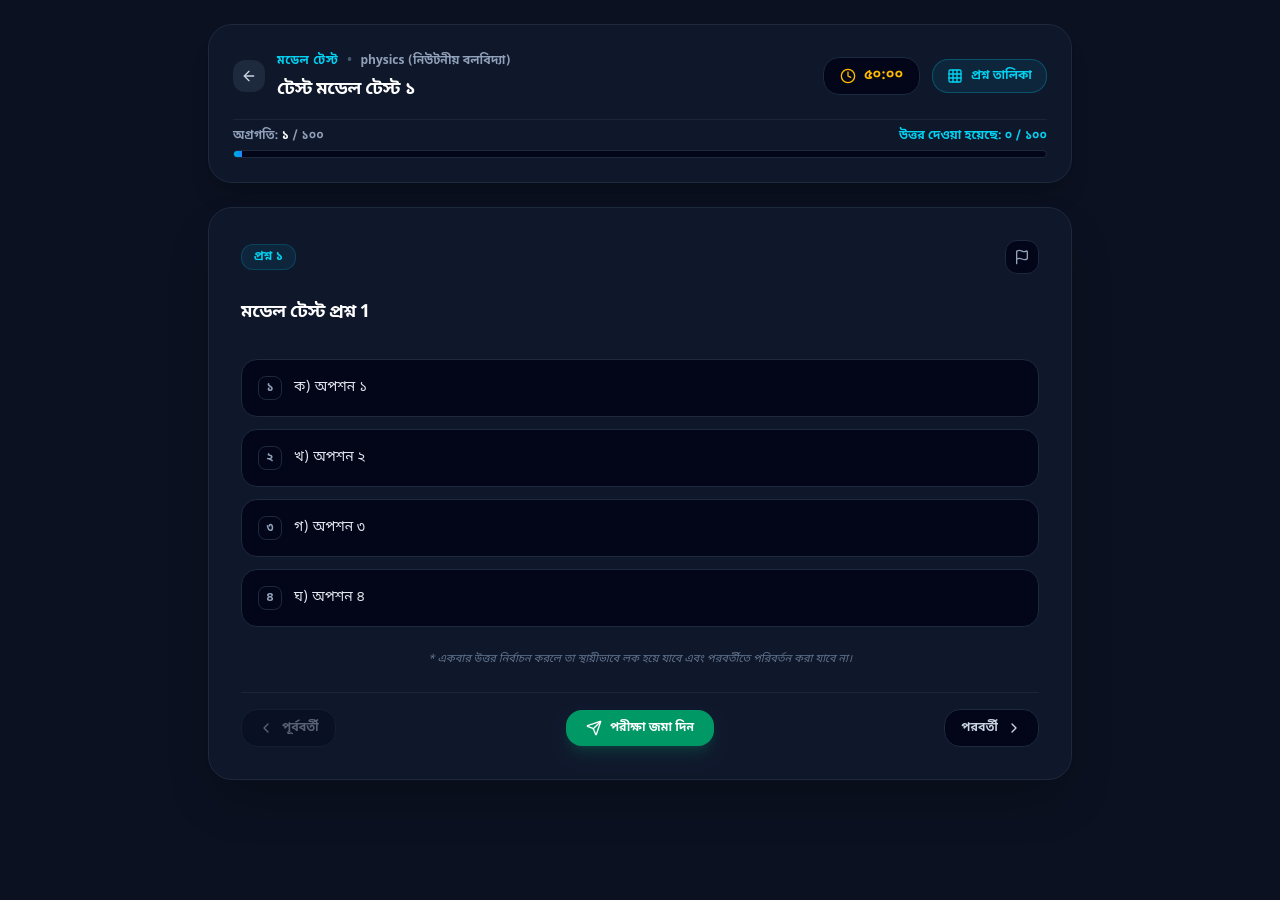
it: Medical Model Test Requirements & Safeguards › 6. Question Navigator drawer displays 100 question grid with locked state
What coordinates should you click on to do the following:
click the button "১ ক) অপশন ১"
I would click on:
 (331, 388)
Its box is [241,359,1039,417].
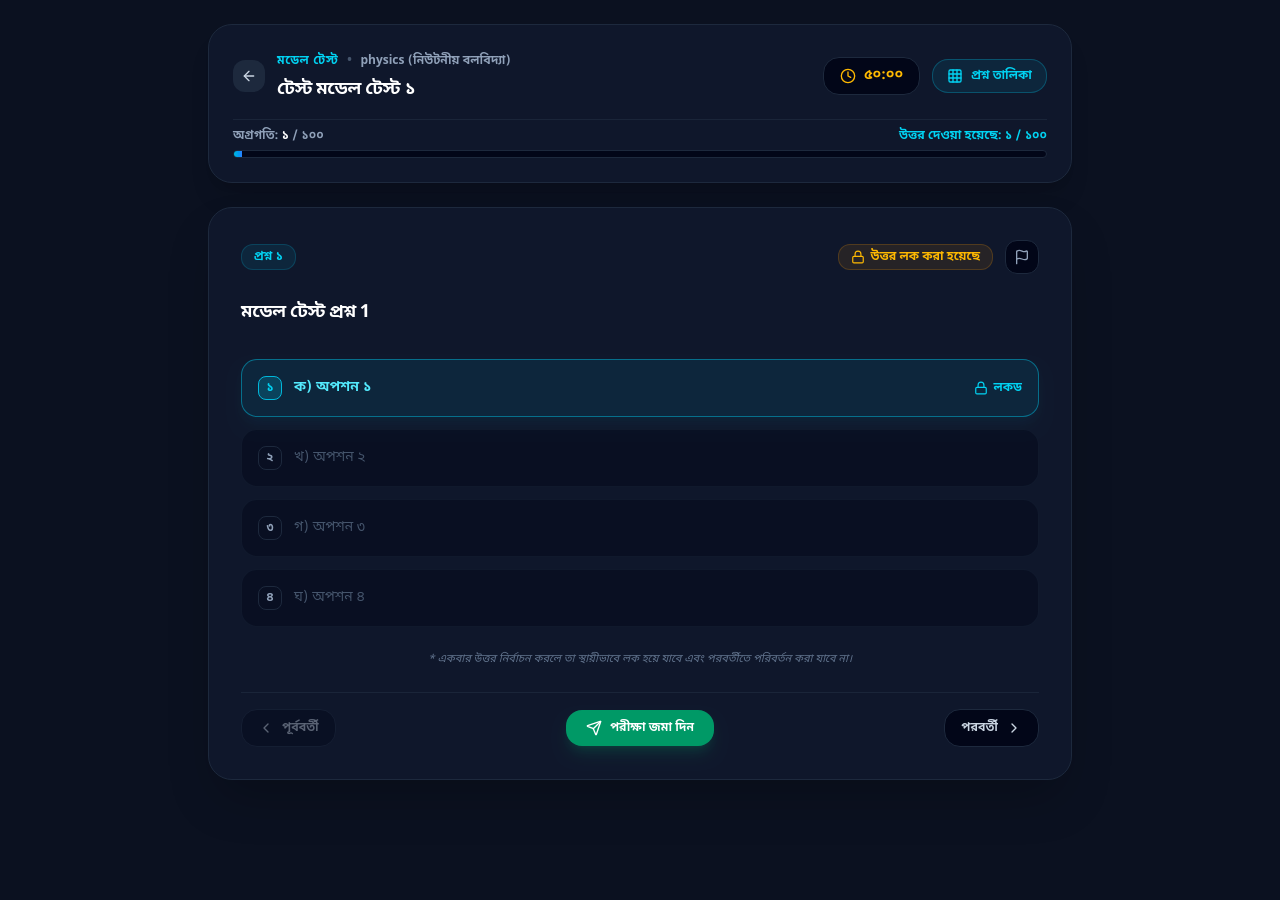
// Open question navigator modal
What coordinates should you click on to do the following:
click the button "প্রশ্ন তালিকা"
I would click on:
 (990, 76)
Its box is [932,59,1047,93].
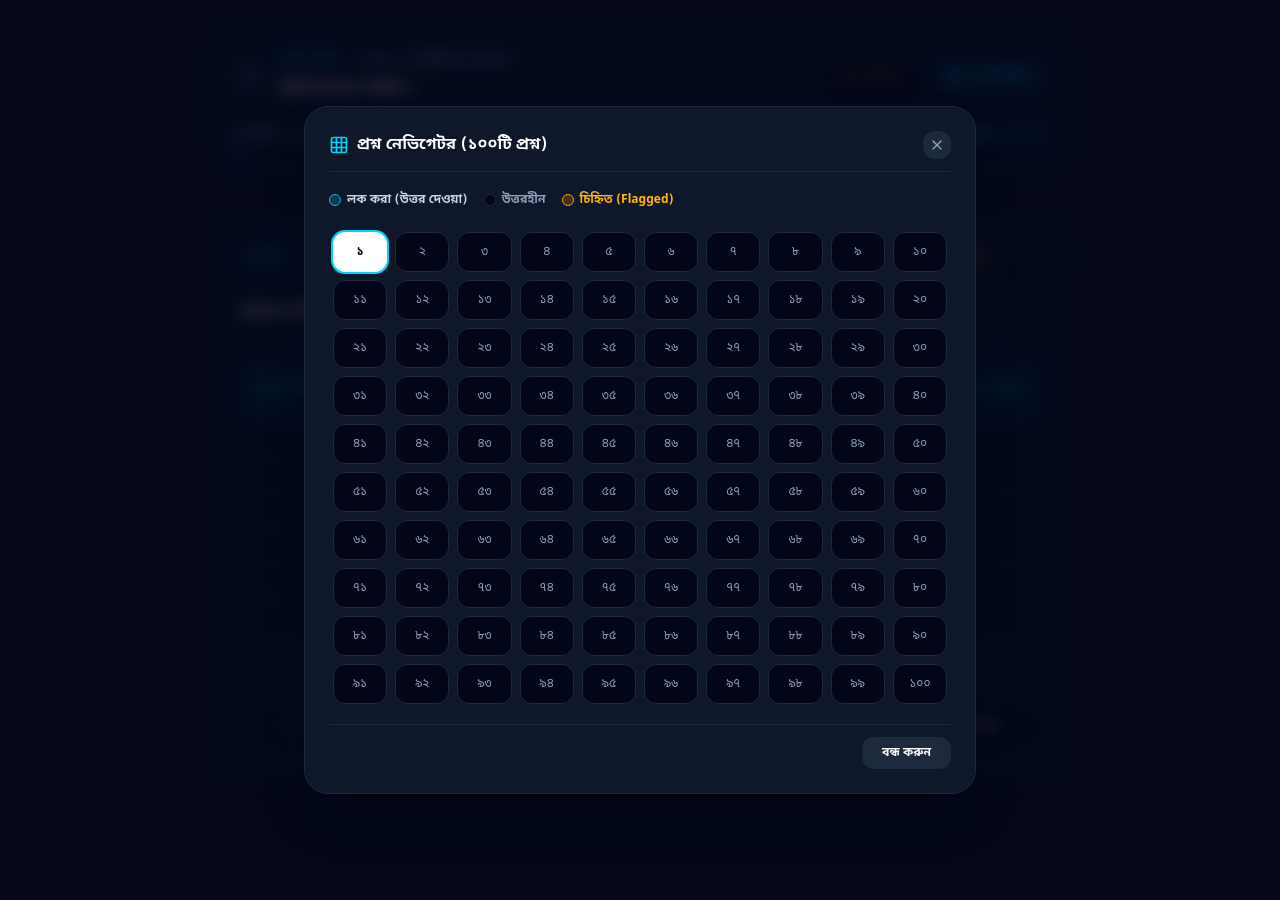
Expected: the text "প্রশ্ন নেভিগেটর (১০০টি প্রশ্ন)" is shown, [357,133,548,157]
